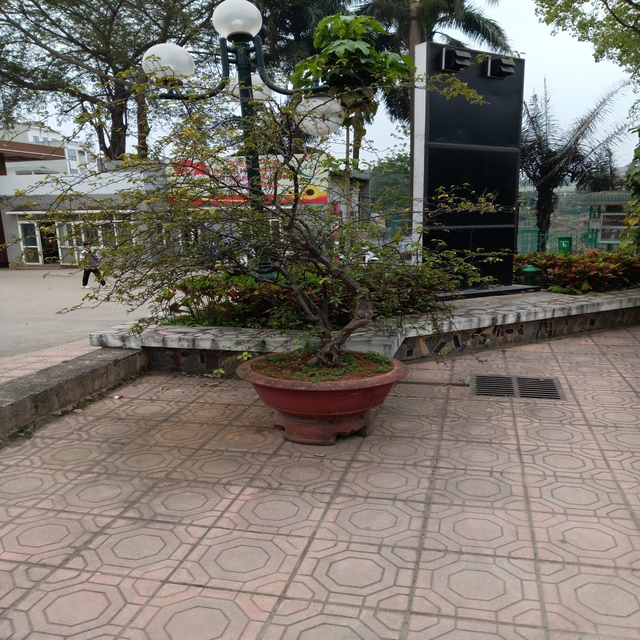caycanh: (217, 148, 418, 449)
